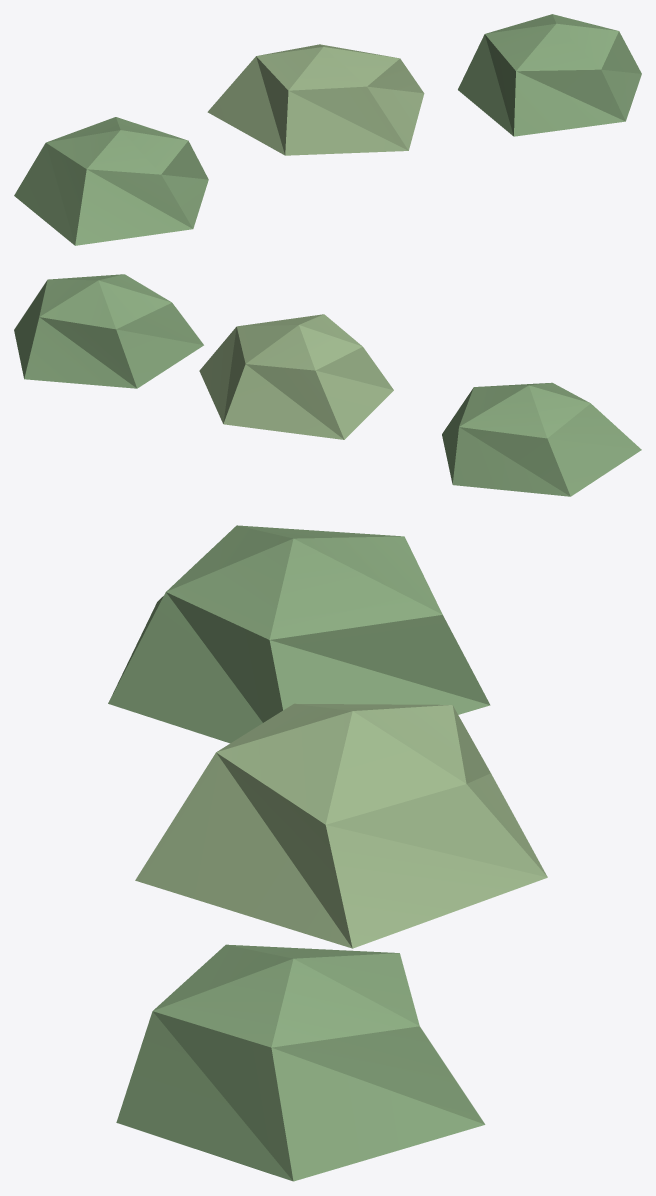
The picture shows the model from 3 angles, top to bottom: view 1: azimuth 30°, elevation 25°; view 2: azimuth 150°, elevation 25°; view 3: azimuth 270°, elevation 25°; orthographic projection. The views are drawn at different scales.
Visible parts, largest first — view 1: hedge_low; view 2: hedge_low; view 3: hedge_low.
Part boxes in pixels (x1,y1,x2,y2): hedge_low: [14, 14, 641, 245]; hedge_low: [14, 274, 641, 496]; hedge_low: [108, 525, 547, 1181].
Bounding box in the file's own units: 2.32 × 0.4291 × 0.7436.
